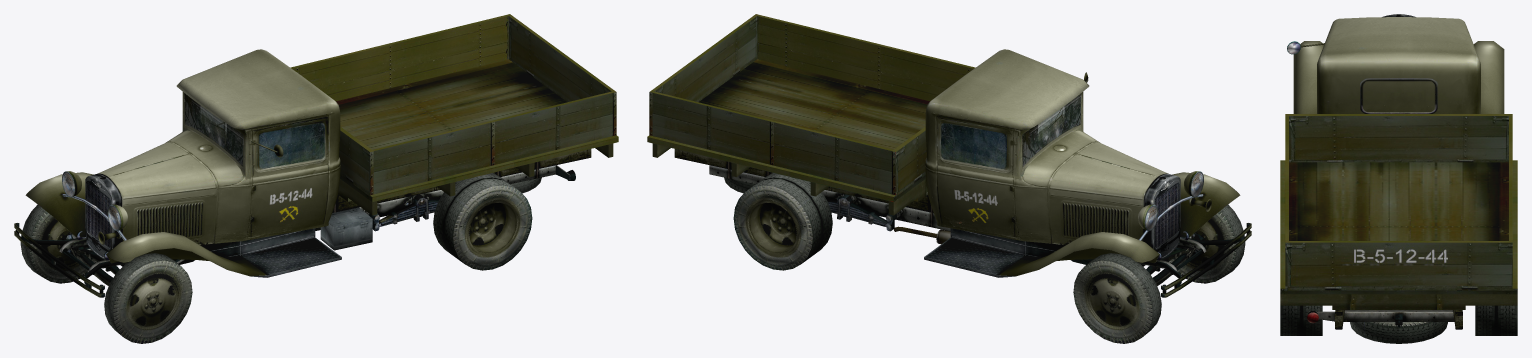
File: gaz_aa_truck.obj
3 views of the same model, side by side, from view 1: azimuth 30°, elevation 25°; view 2: azimuth 150°, elevation 25°; view 3: azimuth 270°, elevation 25° (orthographic). The views are drawn at different scales.
Parts seen in each view (by area): view 1: gaz_aa_truck, gaz_aa_wheels; view 2: gaz_aa_truck, gaz_aa_wheels; view 3: gaz_aa_truck, gaz_aa_wheels.
Part boxes in pixels (<box>): gaz_aa_truck: <box>14,14,618,297</box>; gaz_aa_wheels: <box>20,173,532,343</box>; gaz_aa_truck: <box>647,14,1251,297</box>; gaz_aa_wheels: <box>733,173,1245,343</box>; gaz_aa_truck: <box>1280,14,1517,343</box>; gaz_aa_wheels: <box>1280,305,1517,335</box>.
Size of the model in its own units: 5.54 by 1.99 by 2.09.
6 materials, 6 textured.
